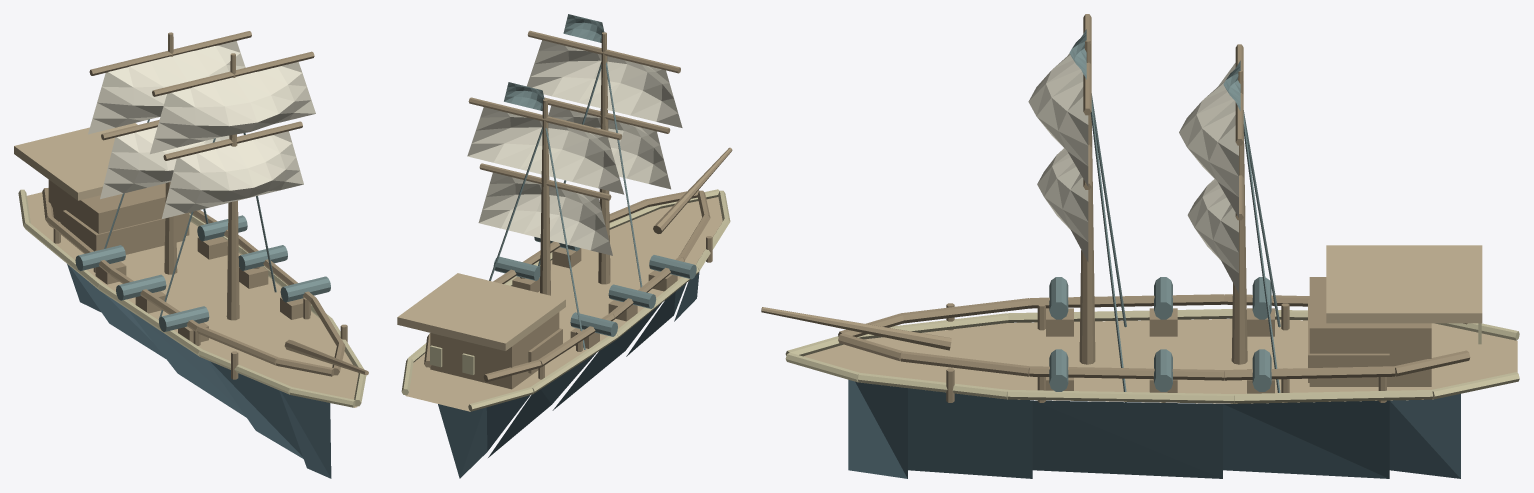
Rendered from npc_friendly_coastal_sloop.glb.
3 renders of one model, left to right at view 1: azimuth 30°, elevation 25°; view 2: azimuth 150°, elevation 25°; view 3: azimuth 270°, elevation 25°, orthographic. The views are drawn at different scales.
Parts seen in each view (by area): view 1: M296_npc_friendly_coastal_sloop_Complete_Ship; view 2: M296_npc_friendly_coastal_sloop_Complete_Ship; view 3: M296_npc_friendly_coastal_sloop_Complete_Ship.
Part boxes in pixels (bbox=[...]): M296_npc_friendly_coastal_sloop_Complete_Ship: bbox=[14, 31, 368, 478]; M296_npc_friendly_coastal_sloop_Complete_Ship: bbox=[397, 14, 732, 478]; M296_npc_friendly_coastal_sloop_Complete_Ship: bbox=[761, 14, 1519, 478].
Bounding box in the file's own units: 2.15 × 4.58 × 6.96.
